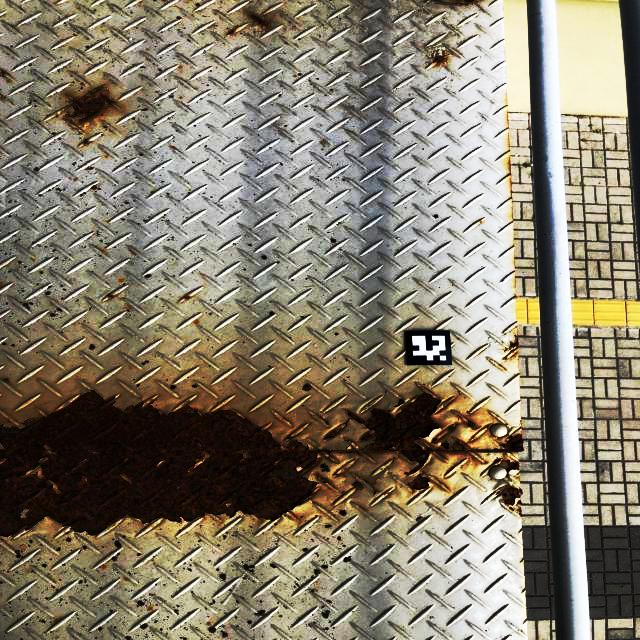Corrosion: (0, 391, 320, 538), (324, 382, 457, 476), (62, 85, 116, 133), (472, 433, 524, 454), (495, 485, 522, 517), (441, 439, 474, 452), (247, 13, 273, 29), (407, 473, 430, 490), (320, 448, 337, 464), (507, 330, 519, 351), (432, 51, 448, 65), (490, 359, 508, 371), (443, 0, 482, 5), (505, 460, 519, 473), (318, 416, 329, 427), (504, 351, 517, 360), (491, 459, 501, 467), (105, 293, 116, 299), (0, 69, 8, 76), (83, 139, 90, 146), (227, 30, 235, 35), (183, 296, 191, 299)
